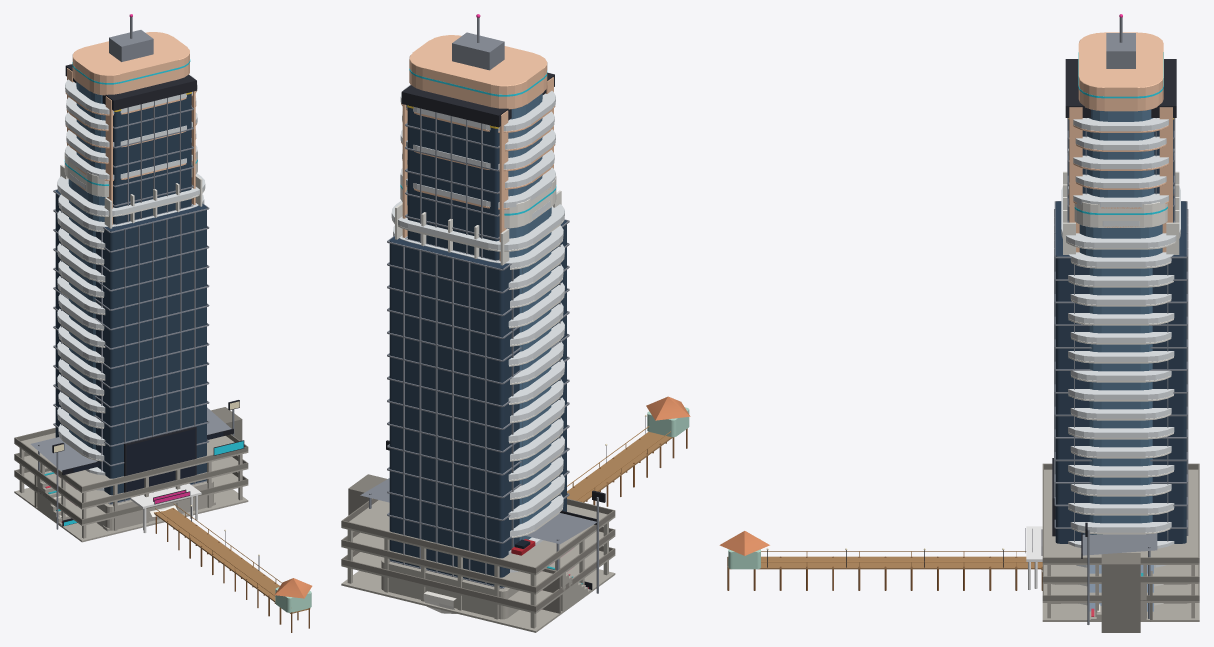
Rendered from miami.glb.
3 views of the same model, side by side, from view 1: azimuth 30°, elevation 25°; view 2: azimuth 150°, elevation 25°; view 3: azimuth 270°, elevation 25° (orthographic). The views are drawn at different scales.
Parts seen in each view (by area): view 1: office_a, condo_a, condo_b, garage, garage~far, pier, condo_b~far, stand, office_a~far, pier~far, condo_a~far; view 2: office_a, condo_a, condo_b, garage, garage~far, pier, condo_b~far, stand, office_a~far, condo_a~far, pier~far; view 3: condo_a, office_a, condo_b, garage, pier, garage~far, condo_b~far, condo_a~far, stand, pier~far, office_a~far.
Boxes of the visible parts, box(x1,y1,x2,y2) form: office_a: box(53, 14, 213, 530); condo_a: box(57, 152, 215, 532); condo_b: box(65, 30, 197, 530); garage: box(14, 407, 247, 541); garage~far: box(14, 407, 248, 542); pier: box(154, 503, 312, 632); condo_b~far: box(69, 30, 186, 504); stand: box(30, 400, 239, 529); office_a~far: box(57, 17, 207, 526); pier~far: box(154, 507, 310, 632); condo_a~far: box(61, 161, 215, 530); office_a: box(381, 14, 569, 619); condo_a: box(391, 175, 564, 572); condo_b: box(400, 32, 555, 540); garage: box(341, 474, 614, 632); garage~far: box(341, 474, 615, 632); pier: box(567, 396, 690, 506); condo_b~far: box(412, 32, 551, 207); stand: box(360, 440, 605, 613); office_a~far: box(382, 18, 565, 615); condo_a~far: box(408, 182, 560, 530); pier~far: box(576, 407, 688, 506); condo_a: box(1025, 171, 1180, 605); office_a: box(1052, 14, 1189, 603); condo_b: box(1032, 32, 1174, 588); garage: box(1041, 464, 1199, 621); pier: box(719, 531, 1042, 590); garage~far: box(1042, 463, 1199, 632); condo_b~far: box(1078, 32, 1163, 227); condo_a~far: box(1026, 204, 1147, 603); stand: box(1081, 522, 1157, 624); pier~far: box(727, 549, 1042, 590); office_a~far: box(1055, 59, 1186, 256).
Bounding box in the file's own units: 40.1 × 96.35 × 73.4.
